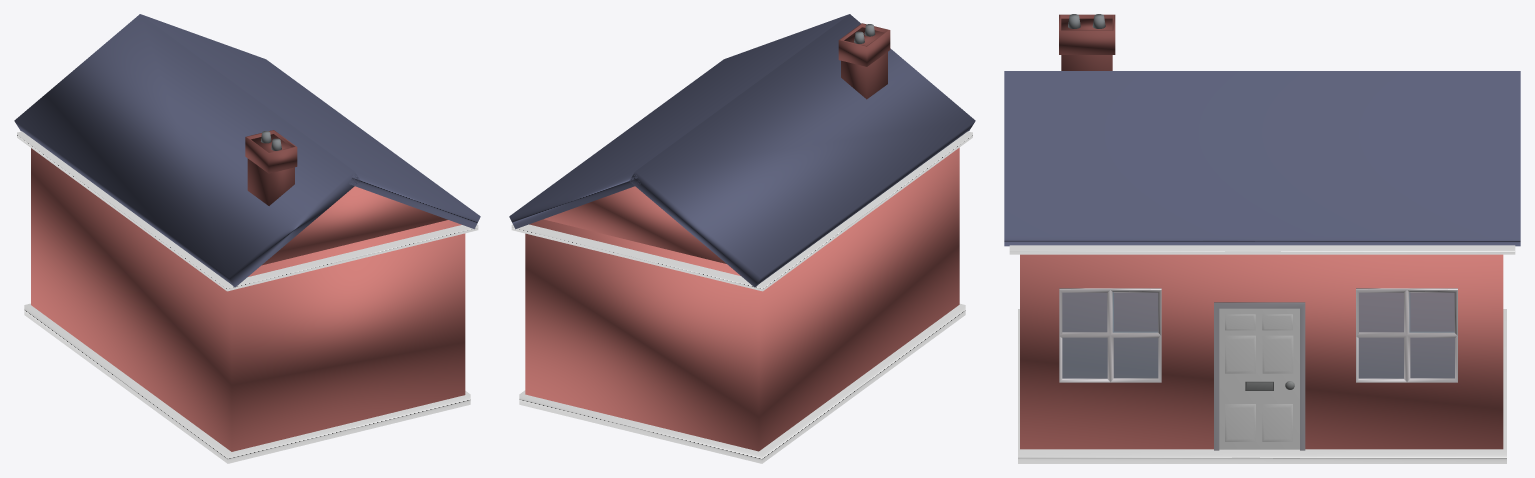
Rendered from suburbhouse.fbx.
3 views of the same model, side by side, from view 1: azimuth 30°, elevation 25°; view 2: azimuth 150°, elevation 25°; view 3: azimuth 270°, elevation 25° (orthographic). The views are drawn at different scales.
Parts seen in each view (by area): view 1: Cube, Cube.003, Cube.002, Cube.001, Cube.013, Cube.014; view 2: Cube, Cube.003, Cube.002, Cube.001, Cube.013, Cube.014; view 3: Cube.003, Cube, Cube.002, Cube.010, Cube.011, Cube.005, Cube.007, Cube.001, Cube.009, Cube.012, Cube.008, Cube.014 (+1 smaller).
Part boxes in pixels (left/top/right/bottom): Cube: left=31, top=148, right=465, bottom=451; Cube.003: left=14, top=14, right=480, bottom=287; Cube.002: left=24, top=303, right=470, bottom=463; Cube.001: left=17, top=131, right=478, bottom=291; Cube.013: left=247, top=134, right=294, bottom=205; Cube.014: left=245, top=130, right=297, bottom=173; Cube: left=525, top=147, right=959, bottom=451; Cube.003: left=509, top=14, right=975, bottom=287; Cube.002: left=519, top=303, right=965, bottom=463; Cube.001: left=511, top=131, right=972, bottom=291; Cube.013: left=841, top=27, right=887, bottom=99; Cube.014: left=838, top=23, right=890, bottom=66; Cube.003: left=1004, top=71, right=1520, bottom=246; Cube: left=1020, top=254, right=1503, bottom=449; Cube.002: left=1018, top=309, right=1506, bottom=463; Cube.010: left=1062, top=292, right=1158, bottom=378; Cube.011: left=1358, top=292, right=1454, bottom=378; Cube.005: left=1225, top=314, right=1293, bottom=441; Cube.007: left=1219, top=308, right=1299, bottom=449; Cube.001: left=1009, top=245, right=1515, bottom=254; Cube.009: left=1059, top=288, right=1161, bottom=382; Cube.012: left=1356, top=288, right=1457, bottom=382; Cube.008: left=1214, top=302, right=1305, bottom=450; Cube.014: left=1059, top=14, right=1115, bottom=54.
Size of the model in its own units: 261 by 286 by 385.
